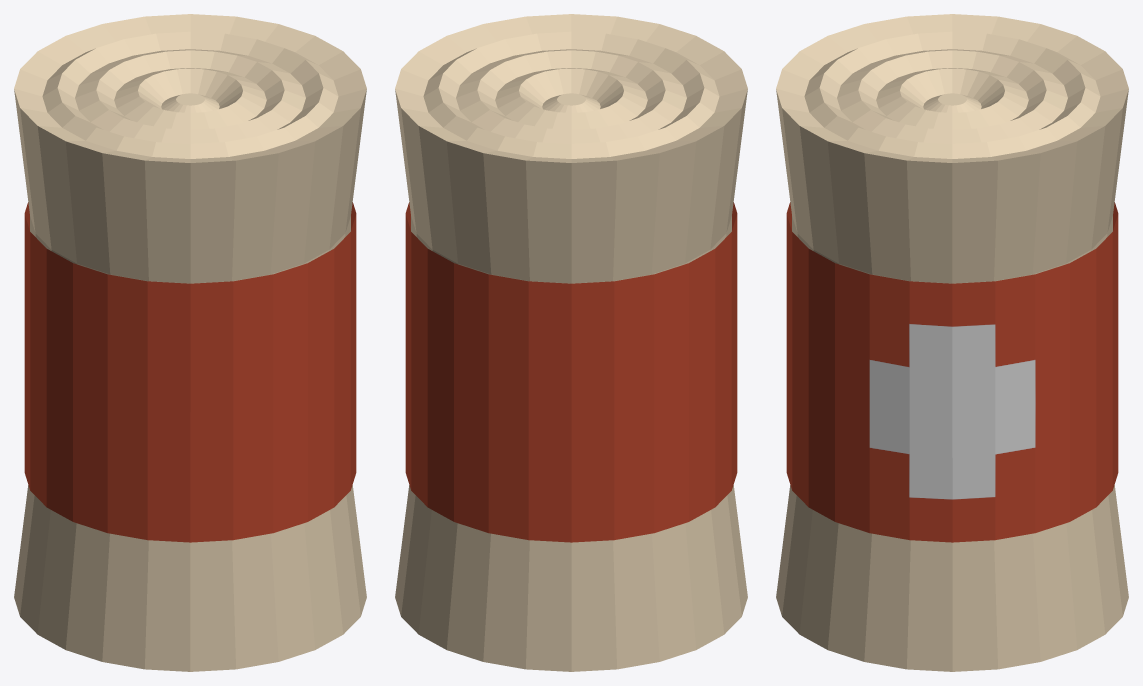
Rendered from Bandage.fbx.
The picture shows the model from 3 angles, left to right: view 1: azimuth 30°, elevation 25°; view 2: azimuth 150°, elevation 25°; view 3: azimuth 270°, elevation 25°; orthographic projection.
Visible parts, largest first — view 1: Bandage; view 2: Bandage; view 3: Bandage.
Part boxes in pixels (left/top/right/bottom): Bandage: left=14, top=14, right=366, bottom=671; Bandage: left=395, top=14, right=747, bottom=671; Bandage: left=776, top=14, right=1128, bottom=671.
Size of the model in its own units: 44 by 70.2 by 44.
